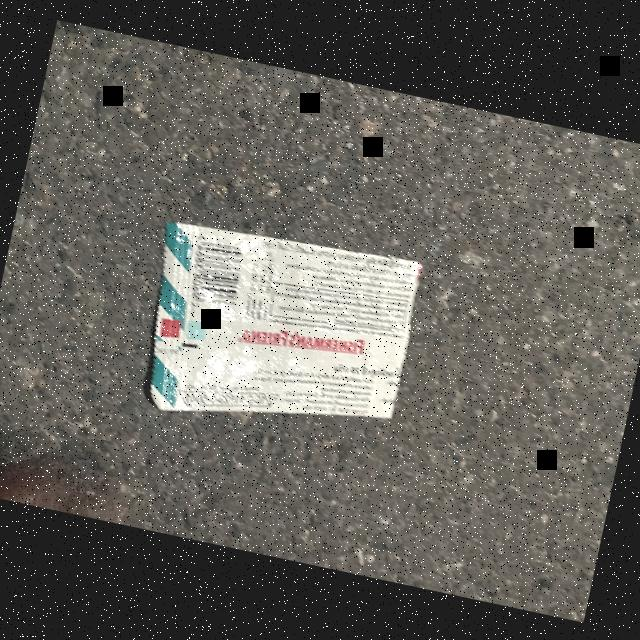snack_bag: (108, 176, 453, 480)
